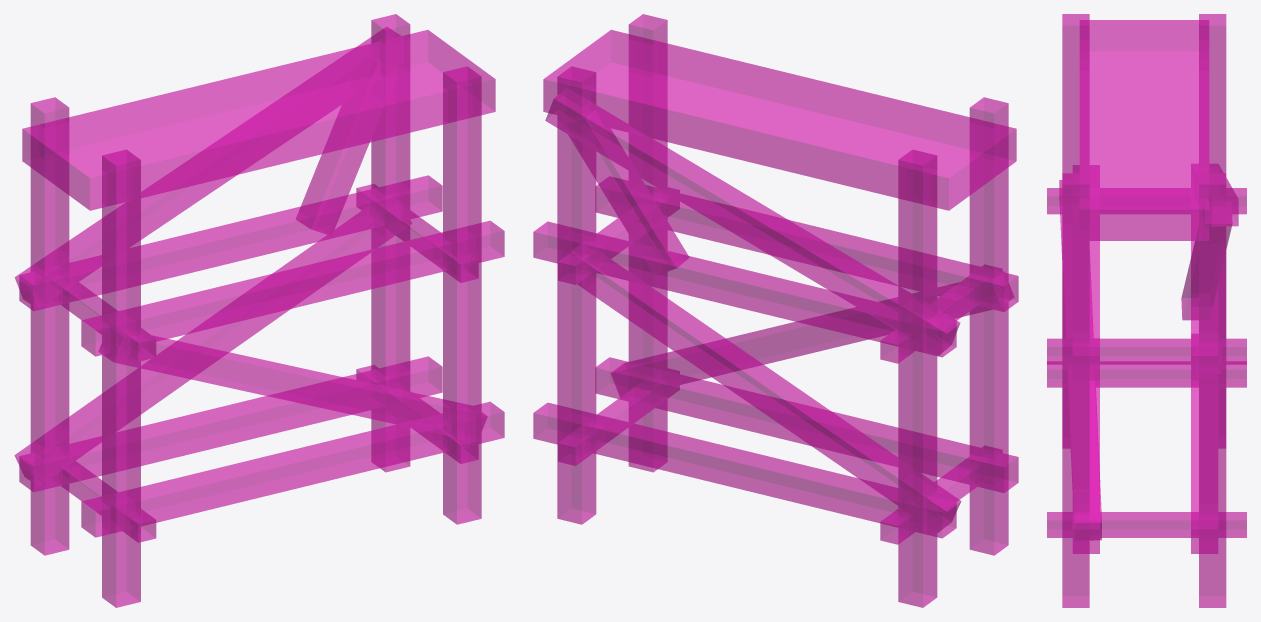
File: SM_Prop_Scaffolding_02_Collision.fbx
3 views of the same model, side by side, from view 1: azimuth 30°, elevation 25°; view 2: azimuth 150°, elevation 25°; view 3: azimuth 270°, elevation 25° (orthographic). The views are drawn at different scales.
Parts seen in each view (by area): view 1: SM_Prop_Scaffolding_02_Collision; view 2: SM_Prop_Scaffolding_02_Collision; view 3: SM_Prop_Scaffolding_02_Collision.
Boxes of the visible parts, x1,y1,x2,y2 form: SM_Prop_Scaffolding_02_Collision: (14,14,504,607); SM_Prop_Scaffolding_02_Collision: (533,14,1018,607); SM_Prop_Scaffolding_02_Collision: (1047,14,1246,607).
Bounding box in the file's own units: 574 × 585 × 251.
